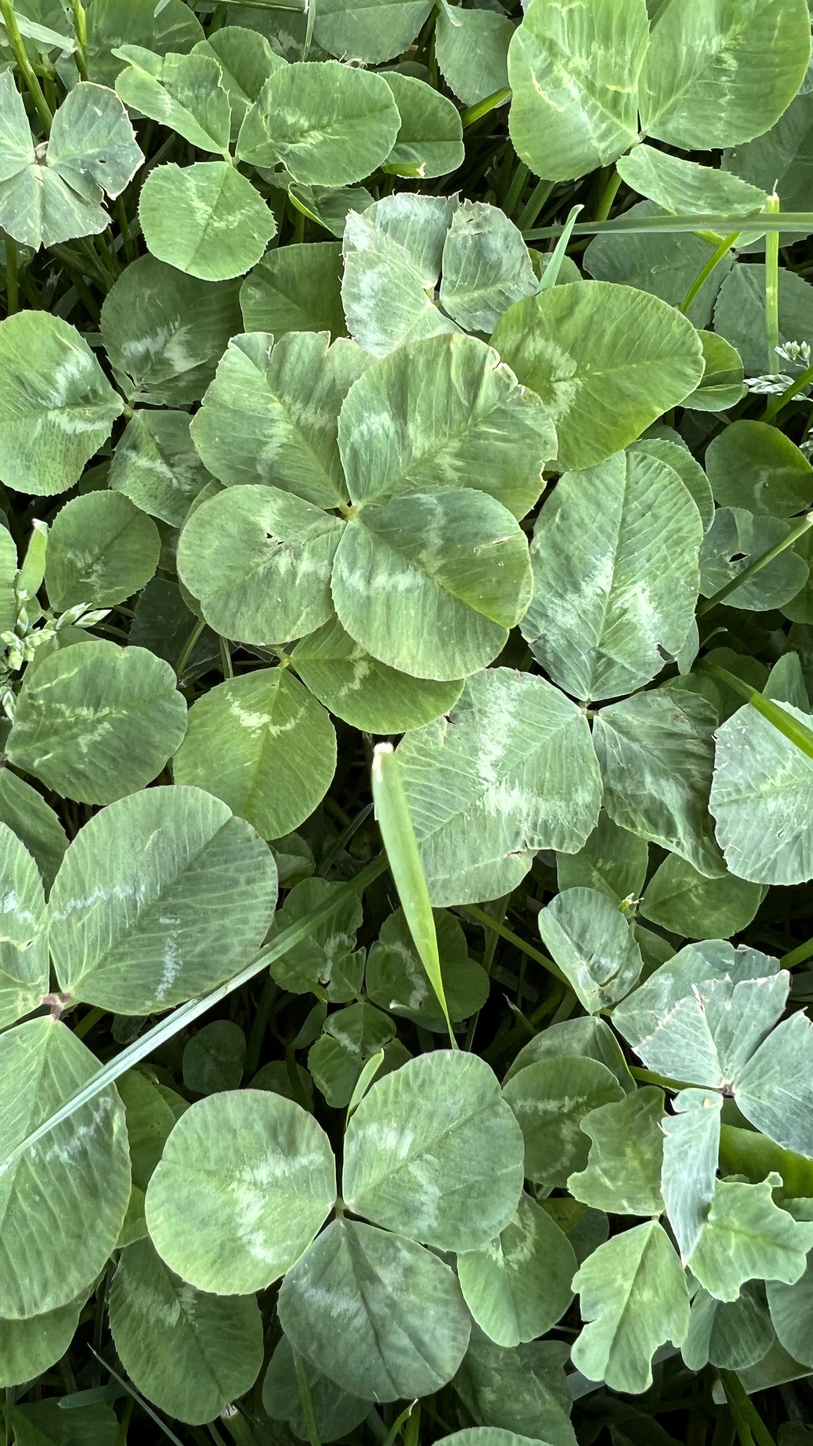4-Leaf-Clovers: (189, 463, 381, 1128)
